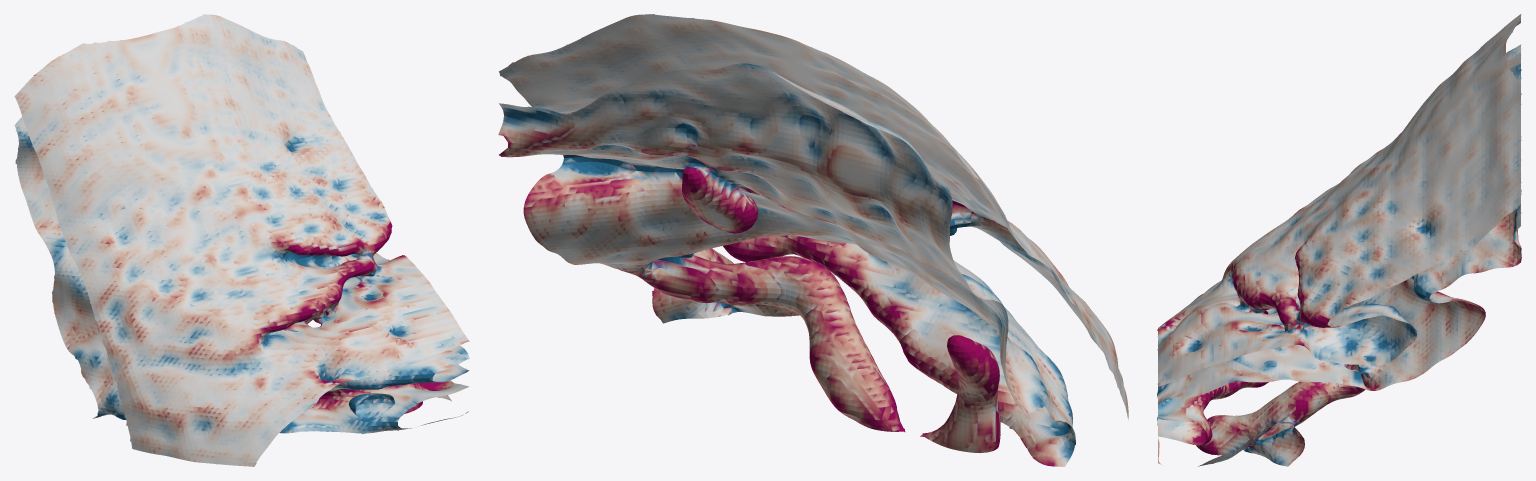
File: crop1150_curvature.glb
3 views of the same model, side by side, from view 1: azimuth 30°, elevation 25°; view 2: azimuth 150°, elevation 25°; view 3: azimuth 270°, elevation 25° (orthographic). The views are drawn at different scales.
Visible parts, largest first — view 1: world; view 2: world; view 3: world.
Part boxes in pixels (x1,y1,x2,y2): world: (14,14,469,466); world: (498,14,1128,466); world: (1157,14,1521,466).
Bounding box in the file's own units: 1480 × 1480 × 1480.
